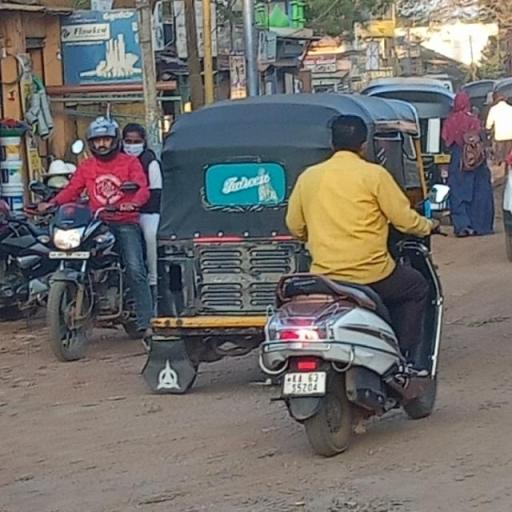bike: (247, 110, 472, 456)
numberplate: (277, 372, 327, 394)
withouthelmet: (329, 115, 367, 157)
